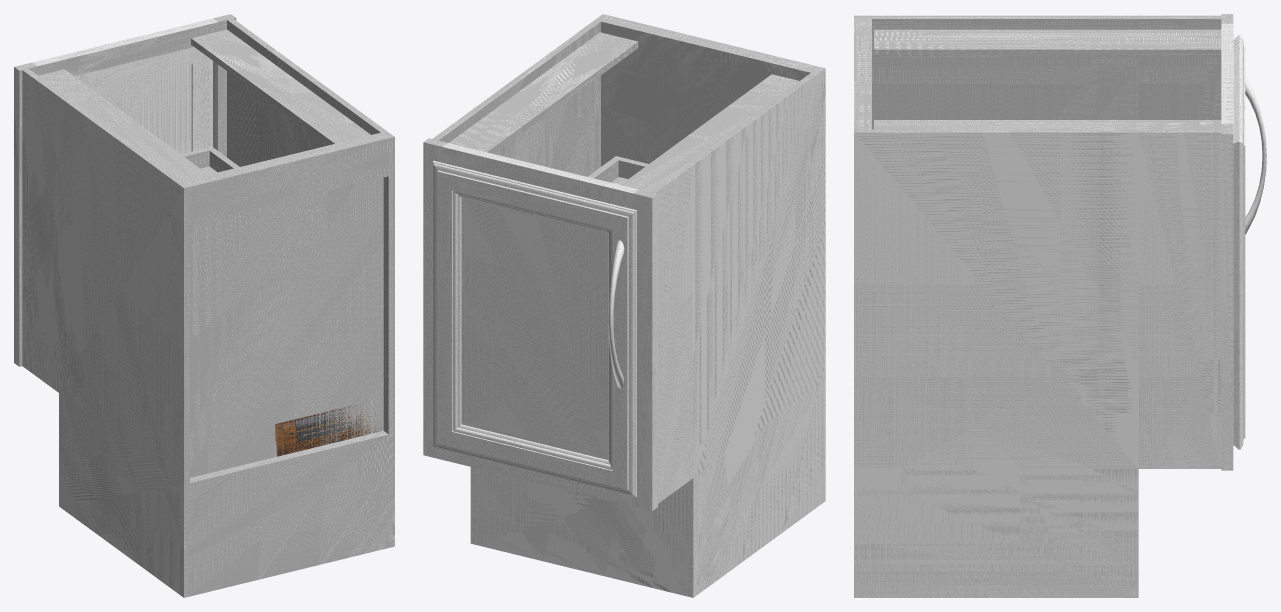
The picture shows the model from 3 angles, left to right: view 1: azimuth 30°, elevation 25°; view 2: azimuth 150°, elevation 25°; view 3: azimuth 270°, elevation 25°; orthographic projection. The views are drawn at different scales.
Parts seen in each view (by area): view 1: mesh4_mesh4-geometry, mesh7_mesh7-geometry, mesh12_mesh12-geometry, mesh8_mesh8-geometry, mesh6_mesh6-geometry, mesh3_mesh3-geometry, mesh10_mesh10-geometry, mesh14_mesh14-geometry, mesh33_mesh33-geometry, mesh2_mesh2-geometry, mesh5_mesh5-geometry, mesh15_mesh15-geometry (+5 smaller); view 2: mesh7_mesh7-geometry, mesh34_mesh34-geometry, mesh13_mesh13-geometry, mesh8_mesh8-geometry, mesh4_mesh4-geometry, mesh6_mesh6-geometry, mesh2_mesh2-geometry, mesh10_mesh10-geometry, mesh35_mesh35-geometry, mesh14_mesh14-geometry, mesh5_mesh5-geometry, mesh36_mesh36-geometry (+11 smaller); view 3: mesh10_mesh10-geometry, mesh11_mesh11-geometry, mesh9_mesh9-geometry, mesh7_mesh7-geometry, mesh15_mesh15-geometry, mesh6_mesh6-geometry, mesh2_mesh2-geometry, mesh14_mesh14-geometry, mesh35_mesh35-geometry, mesh3_mesh3-geometry, mesh5_mesh5-geometry, mesh31_mesh31-geometry (+3 smaller).
Part boxes in pixels (x1,y1,x2,y2): mesh4_mesh4-geometry: (182,132,383,477); mesh7_mesh7-geometry: (59,95,189,484); mesh12_mesh12-geometry: (190,431,388,596); mesh8_mesh8-geometry: (59,393,189,597); mesh6_mesh6-geometry: (22,68,64,392); mesh3_mesh3-geometry: (185,134,388,224); mesh10_mesh10-geometry: (263,45,394,434); mesh14_mesh14-geometry: (191,29,370,145); mesh33_mesh33-geometry: (93,66,189,153); mesh2_mesh2-geometry: (14,14,236,366); mesh5_mesh5-geometry: (32,18,217,76); mesh15_mesh15-geometry: (38,69,207,180); mesh7_mesh7-geometry: (687,67,825,477); mesh34_mesh34-geometry: (463,199,607,456); mesh13_mesh13-geometry: (477,468,686,596); mesh8_mesh8-geometry: (687,381,825,597); mesh4_mesh4-geometry: (601,19,813,166); mesh6_mesh6-geometry: (648,163,693,503); mesh2_mesh2-geometry: (423,138,657,510); mesh10_mesh10-geometry: (471,14,608,176); mesh35_mesh35-geometry: (432,193,463,422); mesh14_mesh14-geometry: (449,32,638,153); mesh5_mesh5-geometry: (442,143,638,506); mesh36_mesh36-geometry: (607,235,636,465); mesh10_mesh10-geometry: (854,129,1138,468); mesh11_mesh11-geometry: (854,469,1138,597); mesh9_mesh9-geometry: (1138,129,1221,468); mesh7_mesh7-geometry: (854,15,1138,129); mesh15_mesh15-geometry: (874,29,1221,56); mesh6_mesh6-geometry: (1138,15,1221,119); mesh2_mesh2-geometry: (1221,14,1233,470); mesh14_mesh14-geometry: (874,120,1221,129); mesh35_mesh35-geometry: (1233,172,1245,415); mesh3_mesh3-geometry: (854,19,865,129); mesh5_mesh5-geometry: (1221,24,1233,124); mesh31_mesh31-geometry: (1233,50,1245,133).
Bounding box in the file's own units: 0.3963 × 0.7156 × 0.5752.
